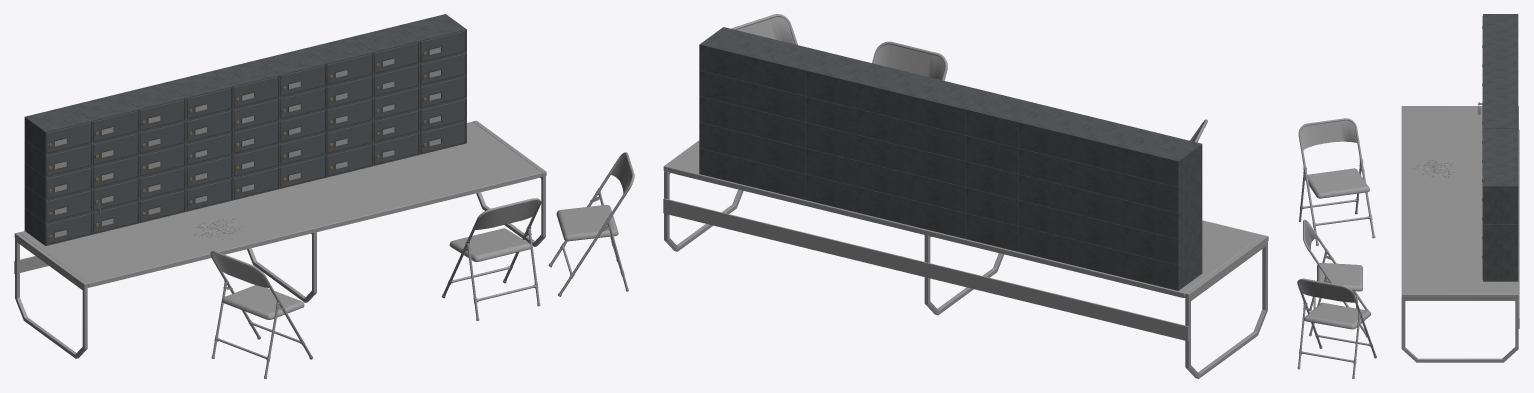
3 renders of one model, left to right at view 1: azimuth 30°, elevation 25°; view 2: azimuth 150°, elevation 25°; view 3: azimuth 270°, elevation 25°, orthographic. The views are drawn at different scales.
Parts seen in each view (by area): view 1: box, miz, sandali, sandali_1, sandali_2, shomare, Cloner; view 2: box, miz, sandali, sandali_2; view 3: miz, box, sandali_1, sandali_2, sandali, Cloner.
Boxes of the visible parts, x1,y1,x2,y2 form: box: (24,14,466,245); miz: (14,120,546,358); sandali: (441,198,541,320); sandali_1: (210,251,313,378); sandali_2: (548,152,634,296); shomare: (55,47,440,237); Cloner: (194,218,243,239); box: (699,27,1202,290); miz: (663,140,1268,378); sandali: (872,41,947,80); sandali_2: (731,14,797,44); miz: (1401,106,1519,362); box: (1482,14,1518,281); sandali_1: (1298,118,1375,245); sandali_2: (1297,278,1376,378); sandali: (1303,219,1368,337); Cloner: (1414,157,1455,177).
Size of the model in its own units: 336 by 123 by 152.
5 materials, 1 textured.
